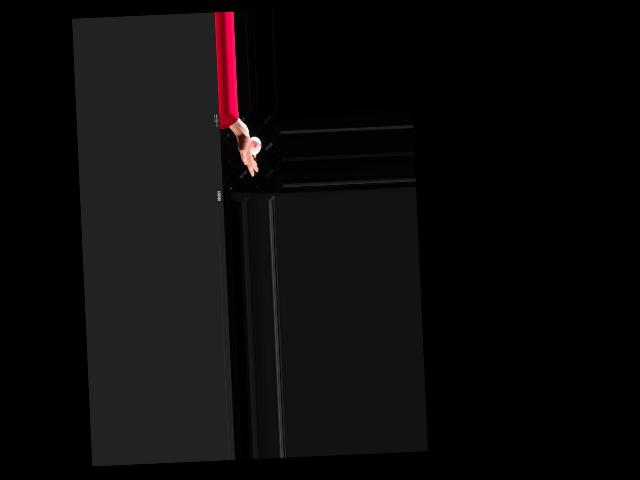egg: (248, 135, 261, 154)
